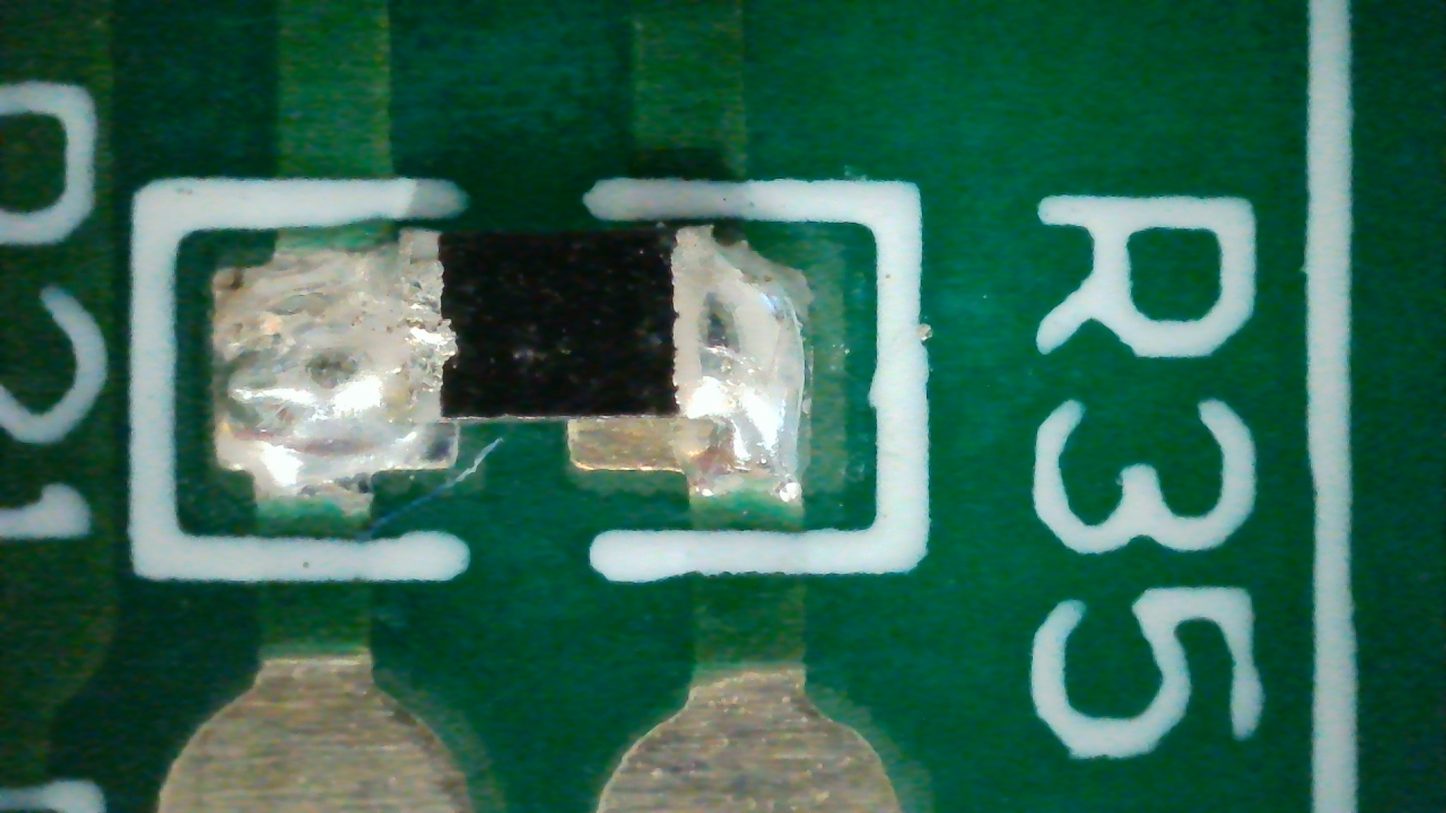NG: (218, 227, 806, 509)
